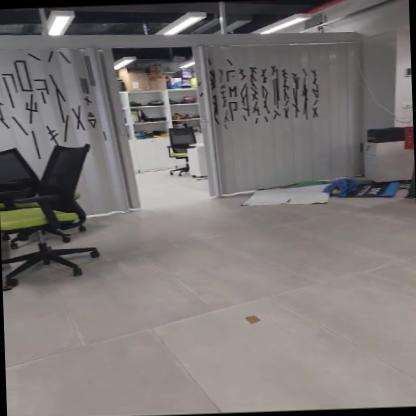open: (110, 44, 210, 202)
